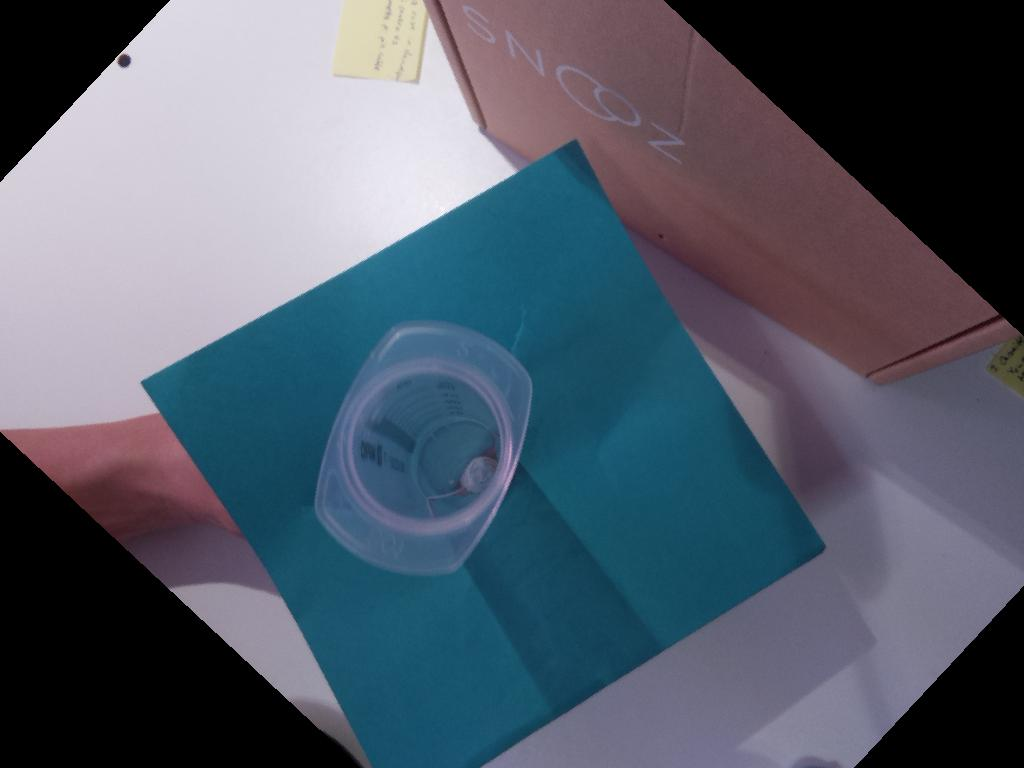clean: (313, 319, 532, 575)
